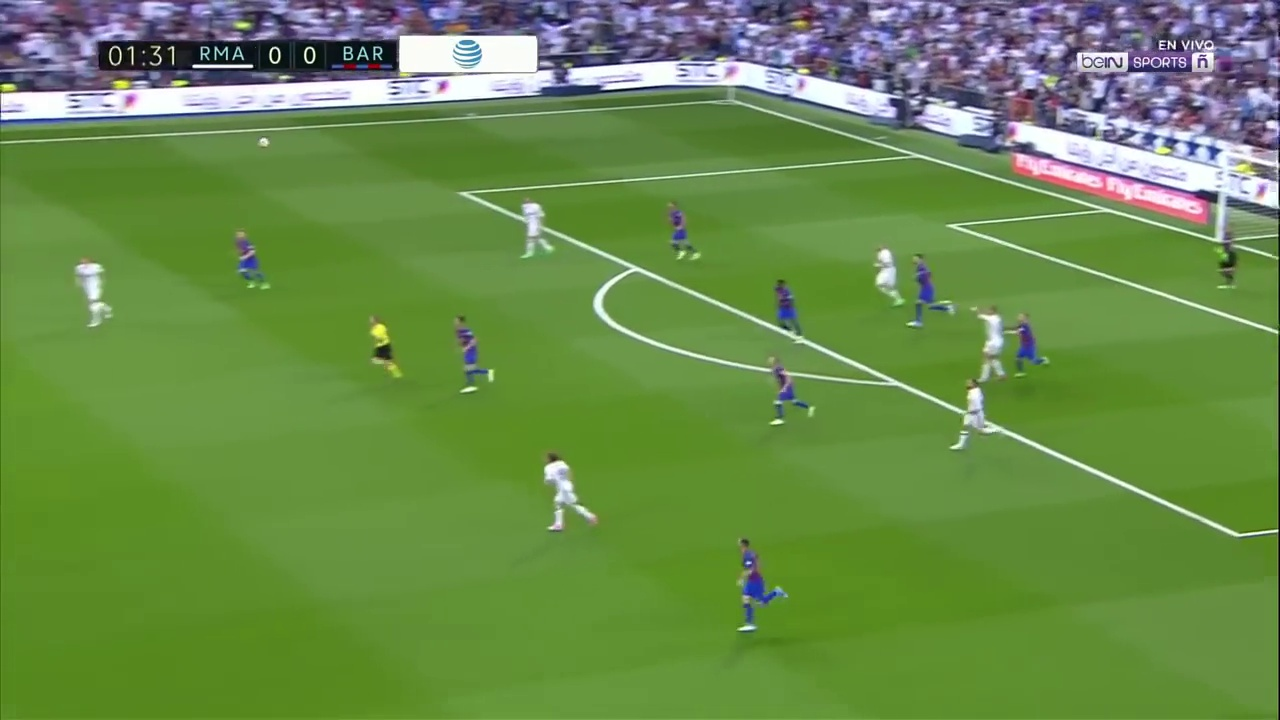ball: (257, 137, 271, 148)
blurry: (451, 313, 499, 398), (906, 251, 955, 329), (766, 354, 816, 429), (69, 254, 117, 329), (967, 302, 1006, 383), (366, 312, 406, 386), (233, 229, 273, 294), (520, 195, 554, 263), (774, 277, 803, 344)
player: (733, 536, 791, 637), (541, 449, 598, 540), (946, 379, 1004, 456), (1002, 312, 1048, 381), (871, 242, 906, 308), (666, 200, 702, 264), (1214, 237, 1238, 292)
